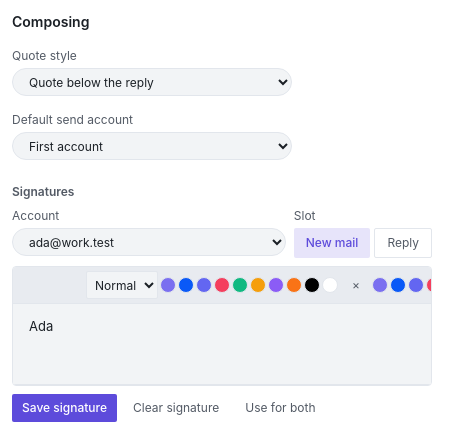
Test: the signature editor › seeds the editor from the chosen account and slot
This screenshot has width=449, height=439.
Expected: the field named "Message body" reads "Ada", [29, 318, 53, 334]
Step 1. Click the button "Reply" → (403, 243), box [374, 228, 432, 258]
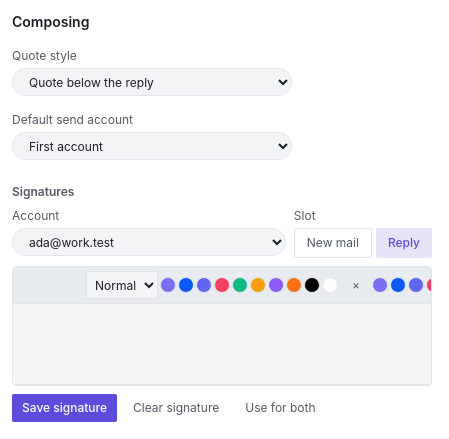
Now the field labelled "Message body" no longer shows "Ada"
